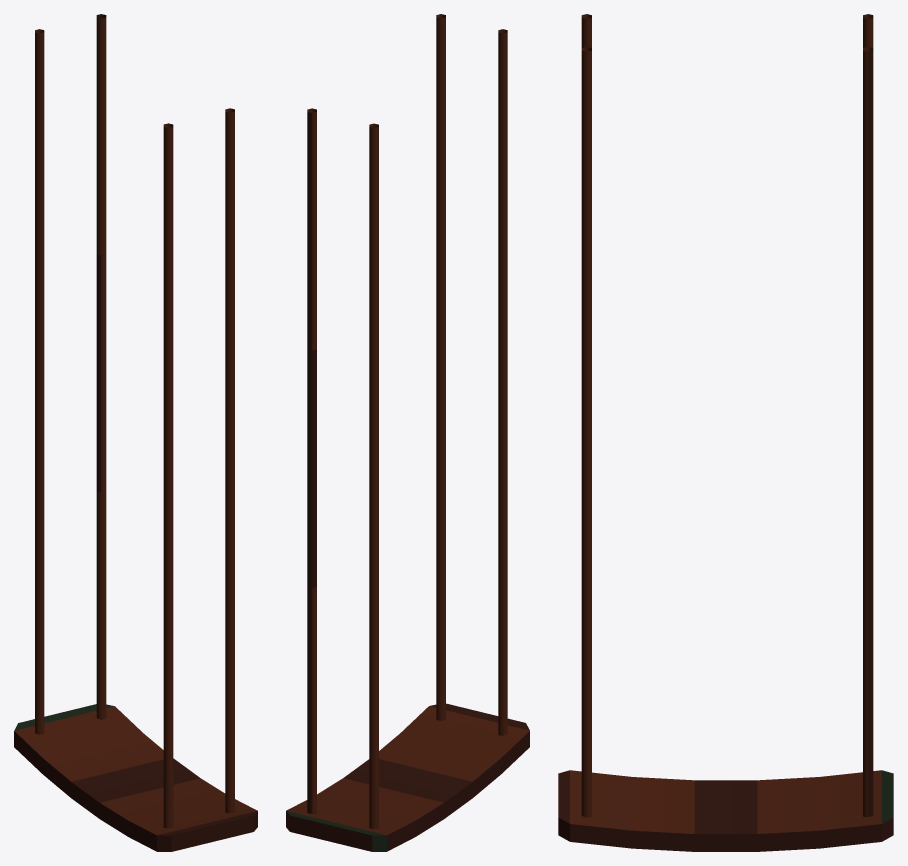
The model's file is Balancoire.fbx.
3 views of the same model, side by side, from view 1: azimuth 30°, elevation 25°; view 2: azimuth 150°, elevation 25°; view 3: azimuth 270°, elevation 25° (orthographic). The views are drawn at different scales.
Parts seen in each view (by area): view 1: Balancoire; view 2: Balancoire; view 3: Balancoire.
Part boxes in pixels (x1,y1,x2,y2): Balancoire: (14,14,257,851); Balancoire: (286,14,529,851); Balancoire: (558,14,893,851).
Bounding box in the file's own units: 35.22 × 242 × 92.89.
